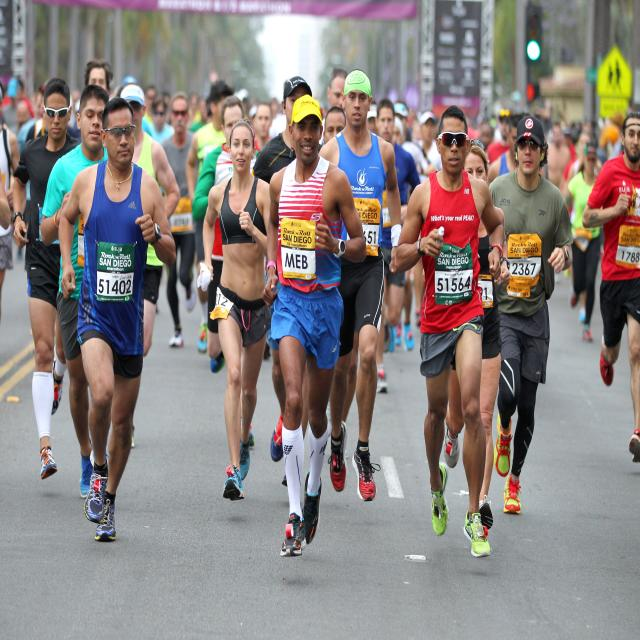body: (54, 93, 179, 544), (393, 102, 508, 562), (260, 92, 371, 561), (317, 68, 403, 503), (488, 115, 574, 515), (250, 73, 328, 489), (39, 84, 110, 499), (199, 118, 276, 500), (11, 78, 81, 481), (442, 136, 512, 532), (108, 82, 180, 452), (580, 109, 640, 464), (198, 95, 262, 376), (374, 98, 422, 395), (185, 77, 235, 354), (160, 91, 200, 349), (566, 142, 606, 343), (0, 64, 40, 265), (576, 50, 634, 165), (465, 99, 521, 184), (393, 102, 439, 171), (384, 264, 420, 350), (543, 104, 577, 188), (189, 251, 210, 353), (84, 60, 136, 96), (144, 89, 174, 140), (255, 95, 282, 148), (1, 77, 22, 126), (187, 90, 210, 132), (568, 263, 584, 323), (318, 105, 344, 138), (363, 98, 380, 134), (238, 85, 256, 117), (70, 95, 80, 133)
